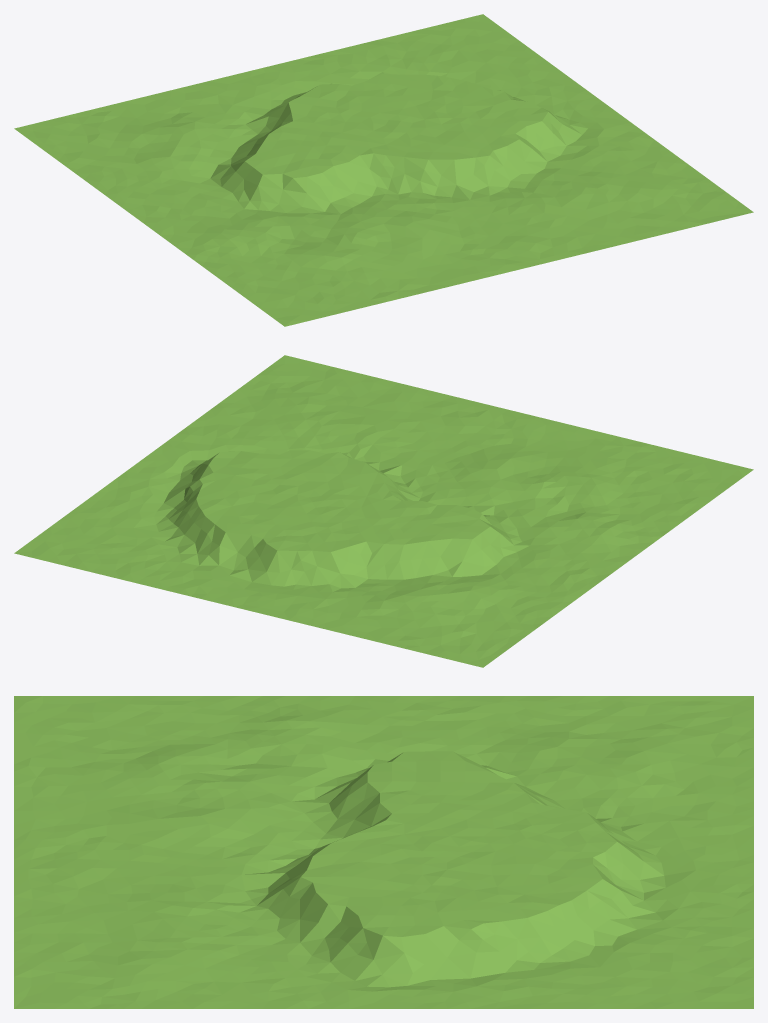
File: MT_Terrain_L_c_04_LOD.fbx
3 views of the same model, one above another, from view 1: azimuth 30°, elevation 25°; view 2: azimuth 150°, elevation 25°; view 3: azimuth 270°, elevation 25° (orthographic). The views are drawn at different scales.
Parts seen in each view (by area): view 1: MT_Terrain_L_c_04_LOD0; view 2: MT_Terrain_L_c_04_LOD0; view 3: MT_Terrain_L_c_04_LOD0.
Boxes of the visible parts, x1=… form: MT_Terrain_L_c_04_LOD0: x1=14, y1=14, x2=753, y2=326; MT_Terrain_L_c_04_LOD0: x1=14, y1=355, x2=753, y2=667; MT_Terrain_L_c_04_LOD0: x1=14, y1=696, x2=753, y2=1008.
Size of what is drawn, in the model's own units: 10000 by 447 by 10000.
